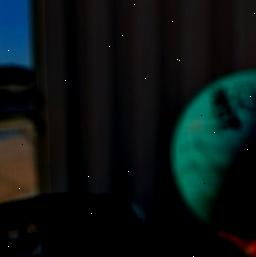algae: (166, 65, 256, 234)
